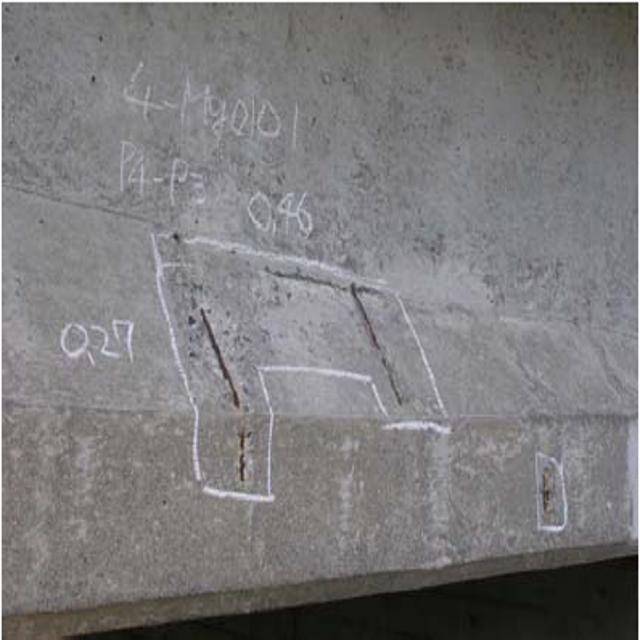spalling: (146, 229, 438, 514), (523, 437, 577, 534)
